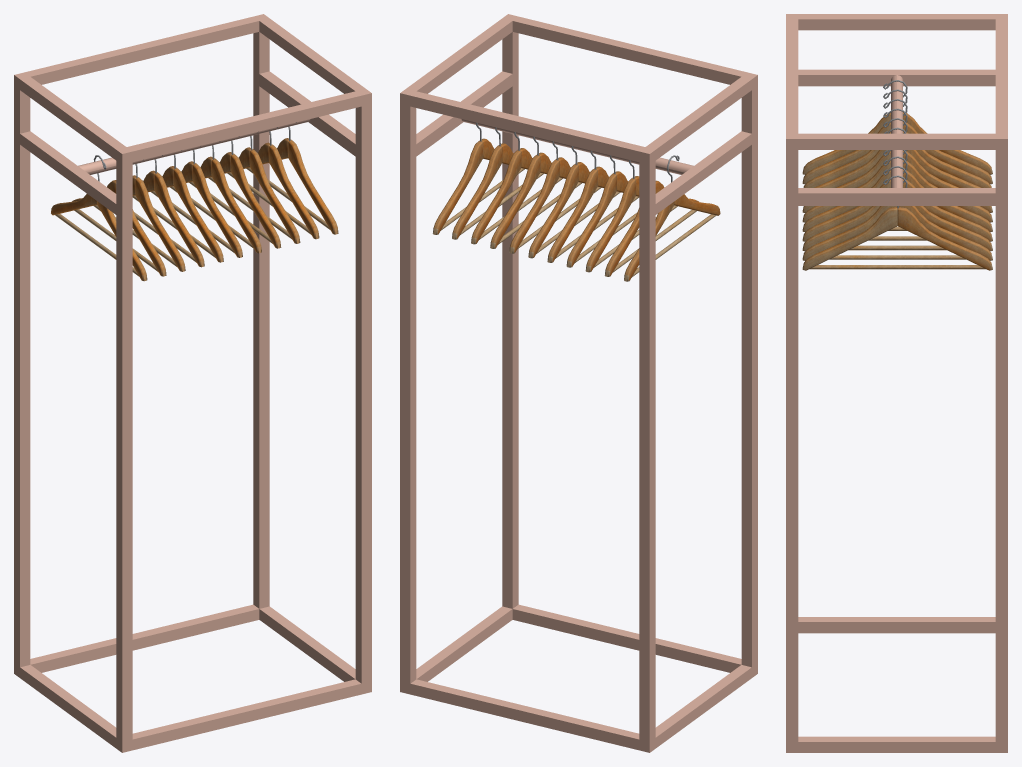
The picture shows the model from 3 angles, left to right: view 1: azimuth 30°, elevation 25°; view 2: azimuth 150°, elevation 25°; view 3: azimuth 270°, elevation 25°; orthographic projection. The views are drawn at different scales.
Visible parts, largest first — view 1: 2'Frame, Object_2; view 2: 2'Frame, Object_2; view 3: 2'Frame, Object_2.
Part boxes in pixels (x1,y1,x2,y2): 2'Frame: (14,14,371,752); Object_2: (51,122,338,281); 2'Frame: (400,14,757,752); Object_2: (432,122,720,281); 2'Frame: (786,14,1007,752); Object_2: (802,80,992,270).
Bounding box in the file's own units: 24 × 55 × 18.
Materials: 2 (1 with a texture image).
